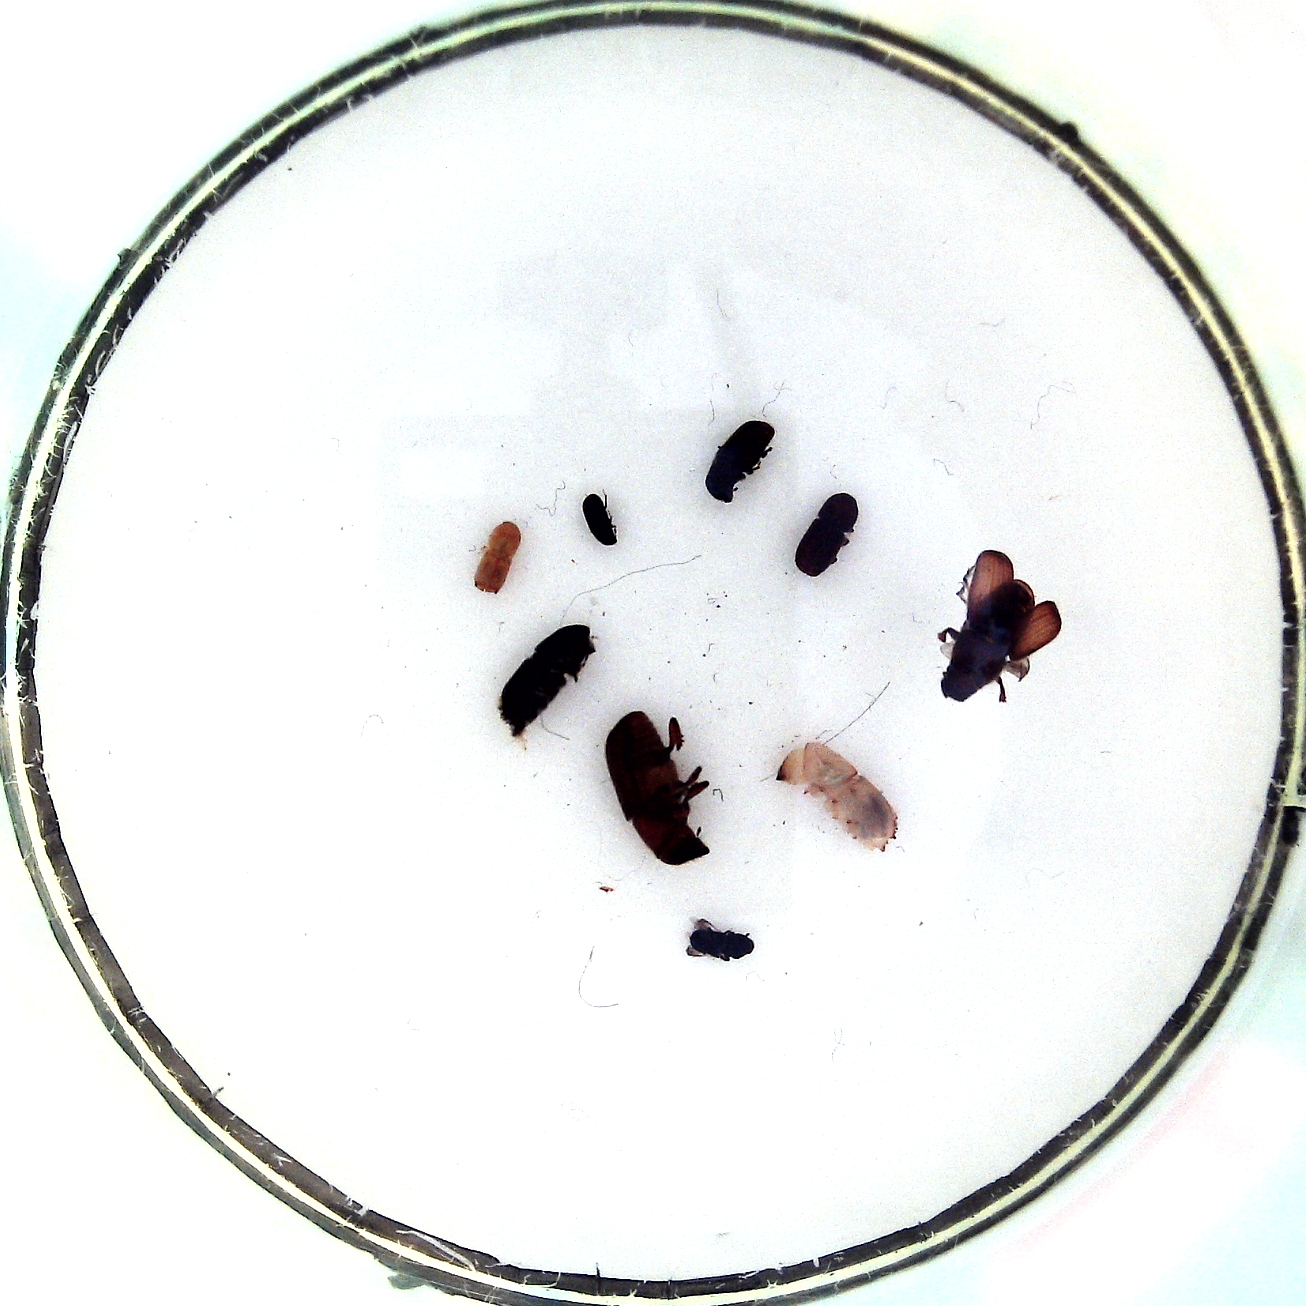Boerner: (773, 742, 907, 854)
Leconte: (929, 547, 1064, 714), (599, 706, 720, 873), (496, 616, 602, 747)
Linnaeus: (789, 492, 869, 578)
acuminatus: (466, 515, 527, 596)
armandi: (701, 416, 781, 508)
coleoptera: (681, 913, 768, 968), (578, 488, 624, 553)
